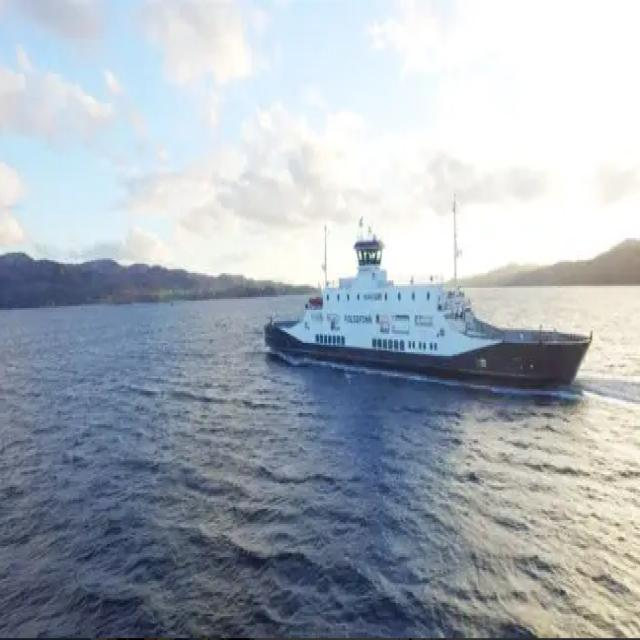houseboat: (265, 210, 600, 414)
